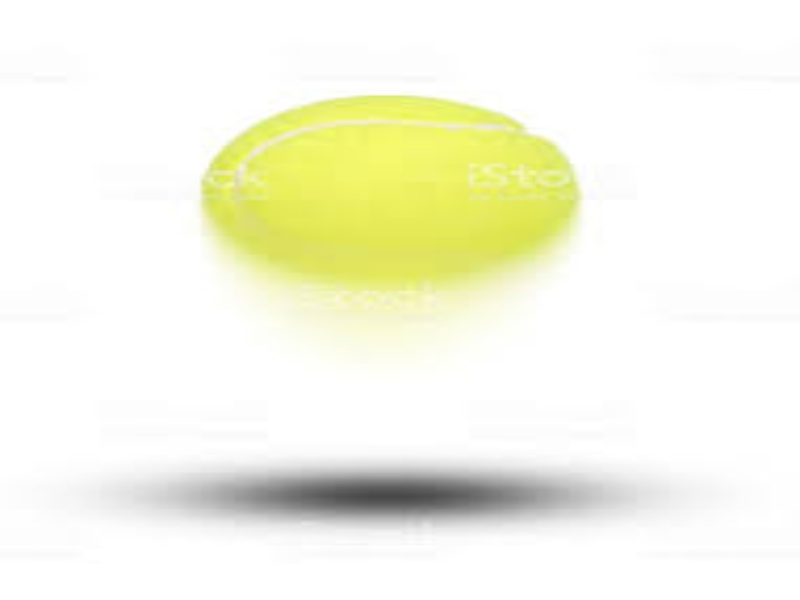tennis ball: (187, 75, 617, 306)
